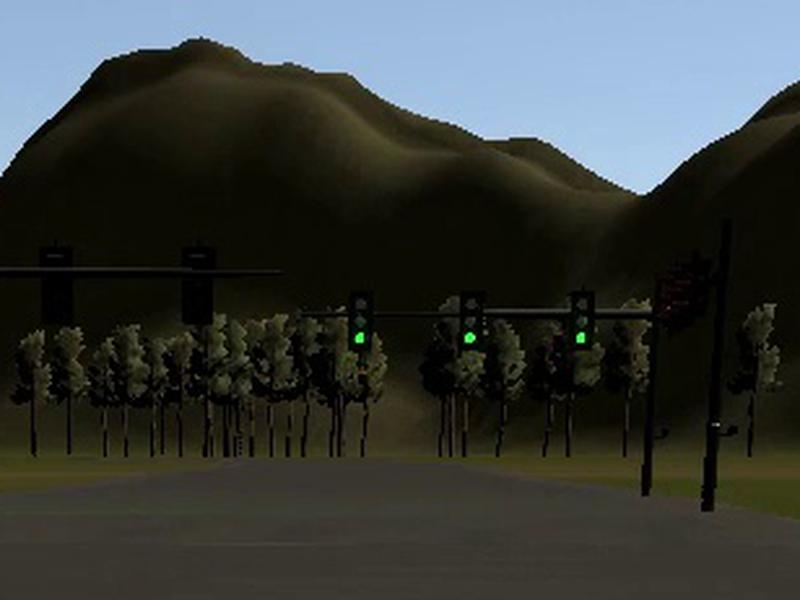Green: (570, 289, 594, 350), (348, 292, 372, 351), (460, 290, 483, 348)
